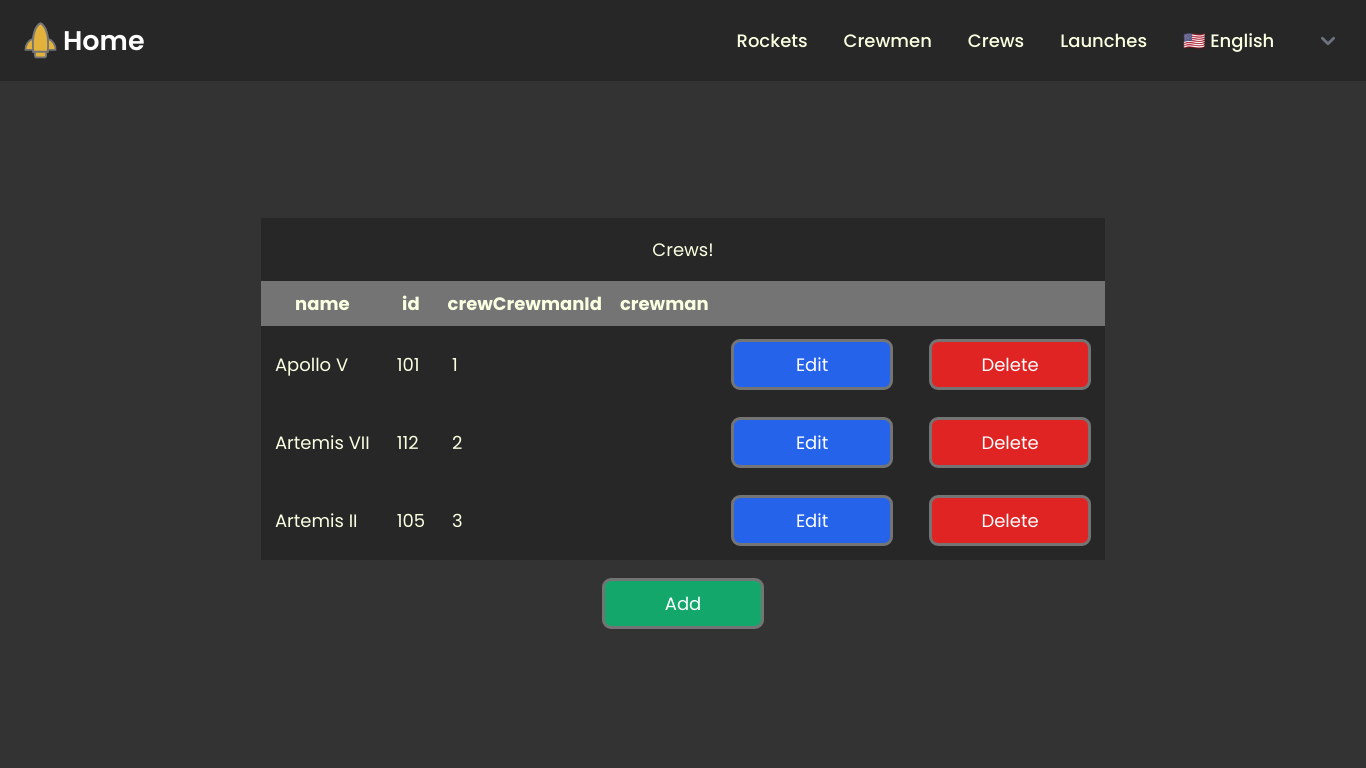
Scenario: crew crud › should add a crew
The image size is (1366, 768).
Click the button with class "add-button" at (683, 604), box [602,578,764,629]
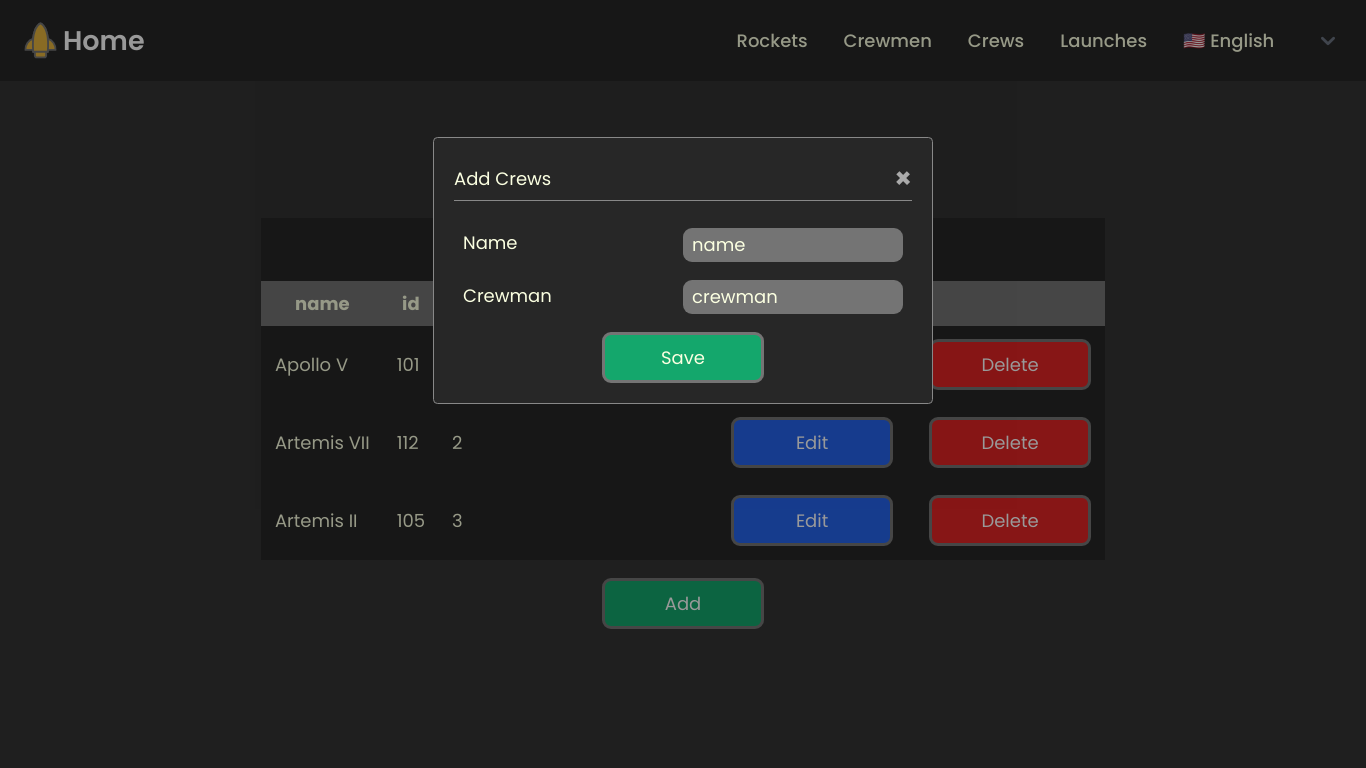
expect the element with class "modal" is shown: met
Type "automated-test" into the field with placeholder "name" at (793, 245), box [683,228,903,262]
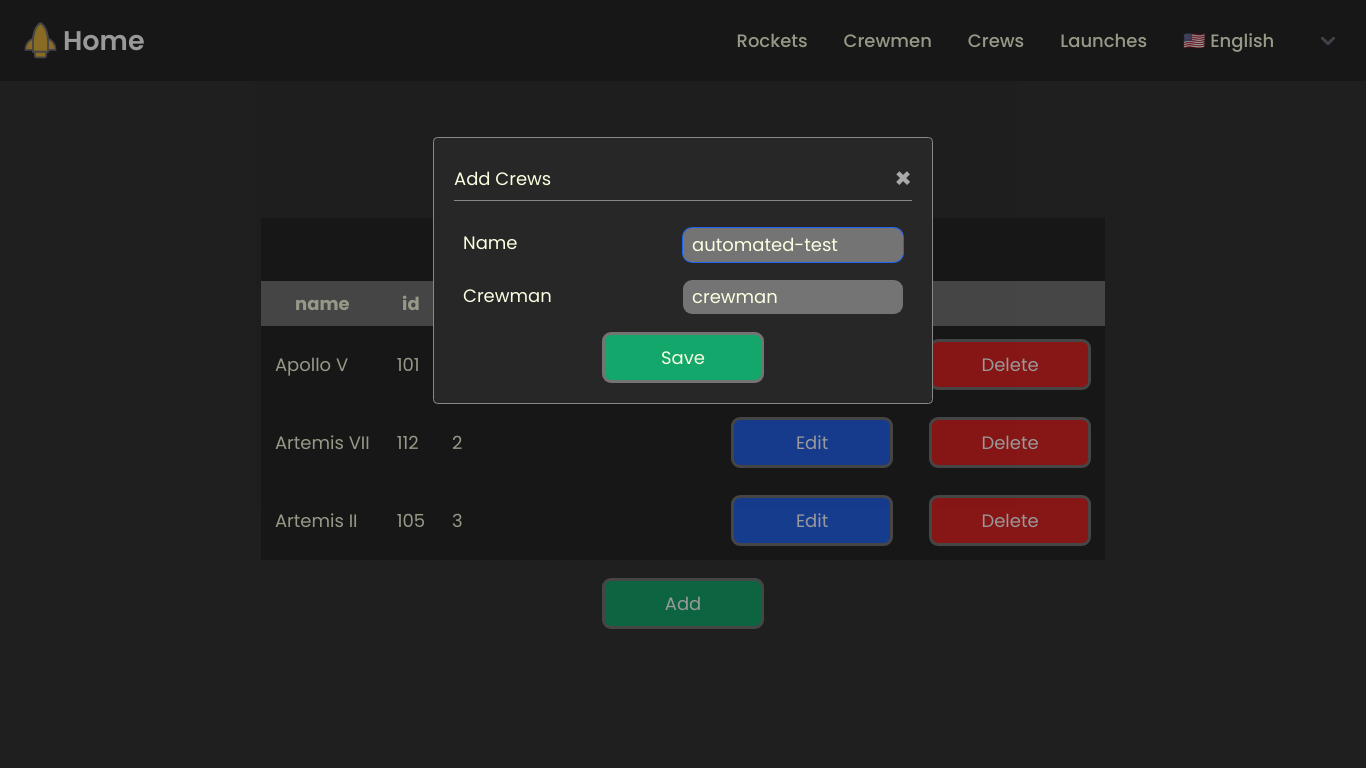
Type "3" into the field with placeholder "crewman" at (793, 297), box [683,280,903,314]
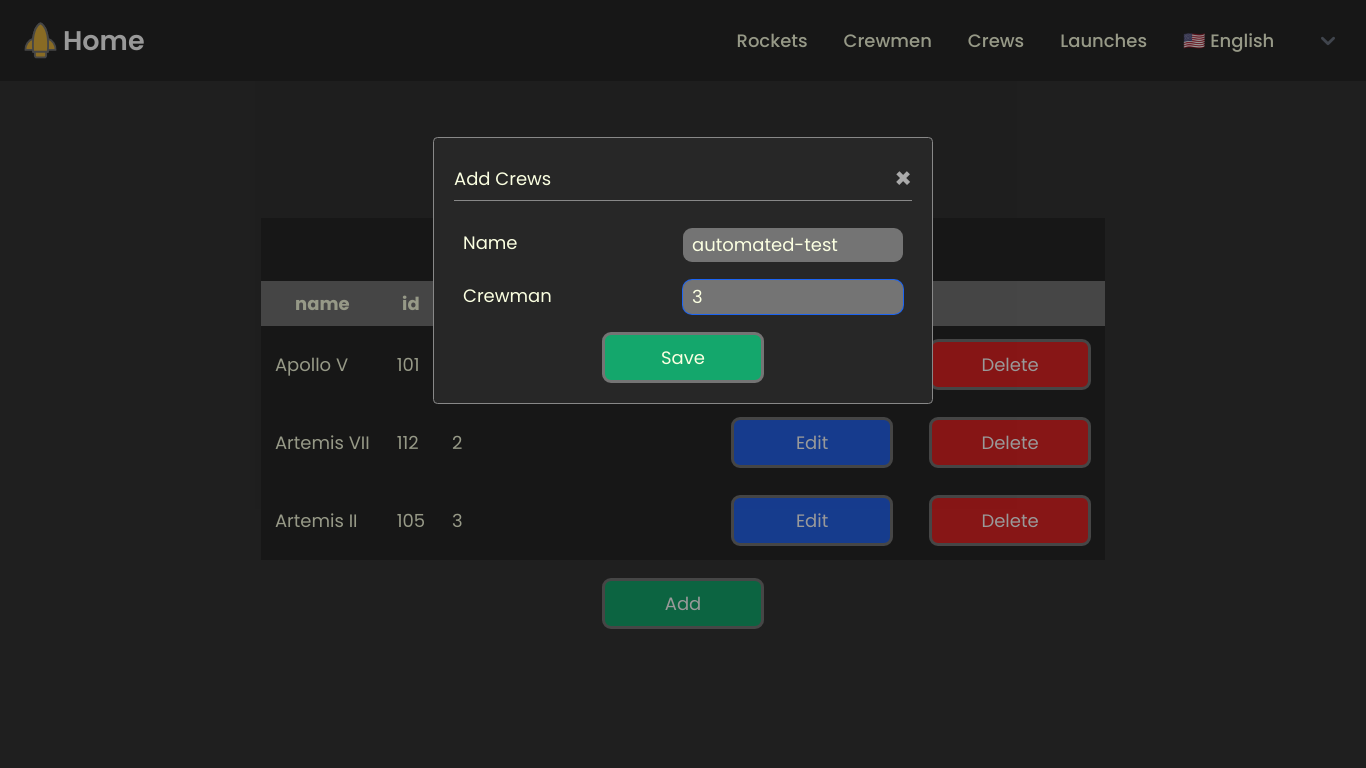
Click the button with id "add-save-button" at (683, 358), box [602,332,764,383]
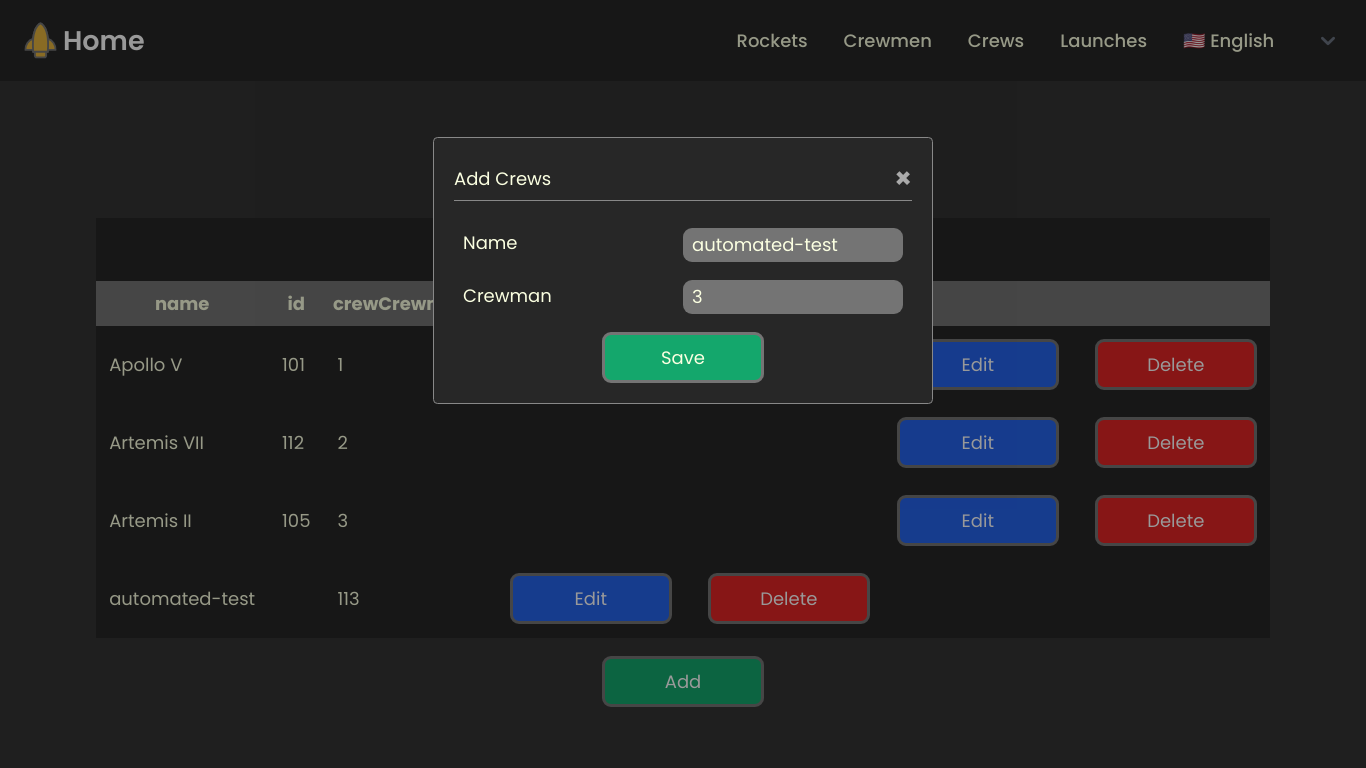
Click the button with class "close" at (903, 179), box [894,158,912,200]
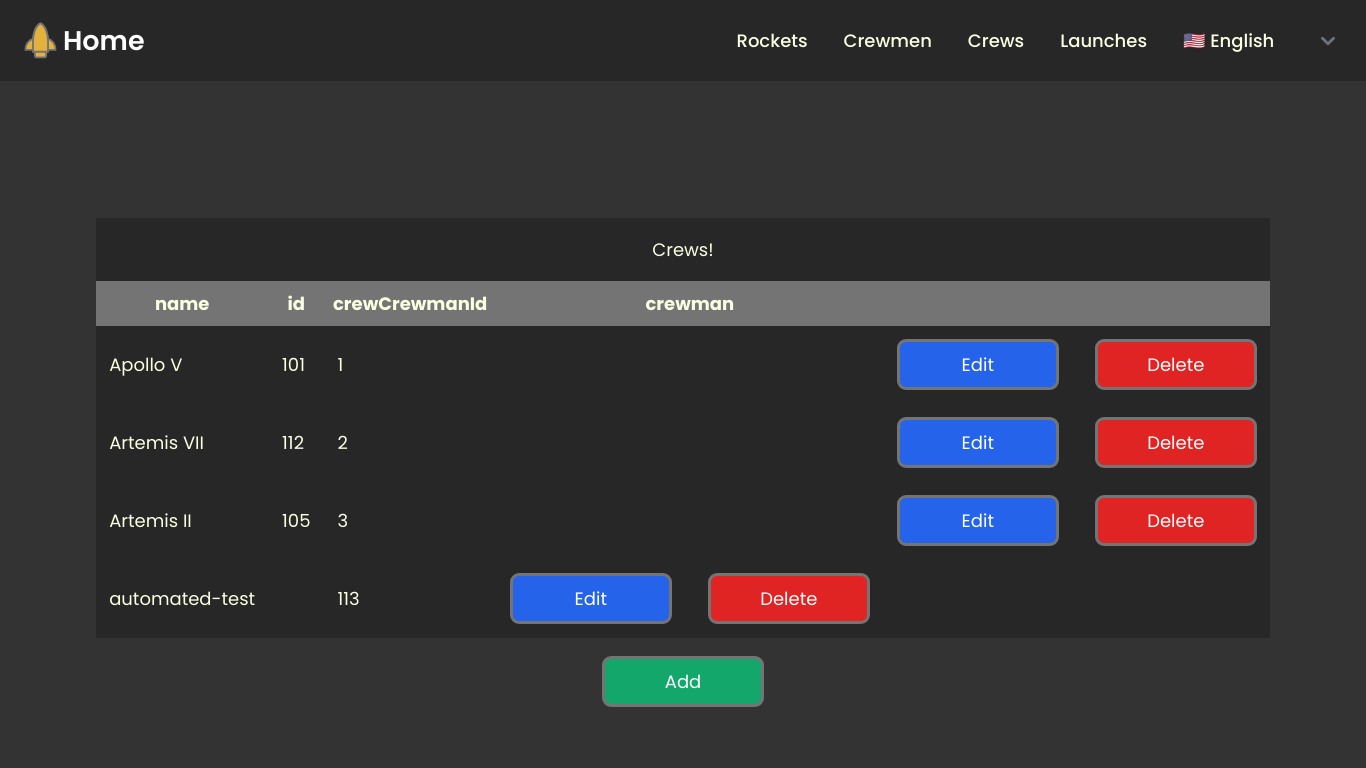
expect the cell "automated-test" is shown: met, box [96,560,269,638]
expect the element with class "modal" is gone: met
